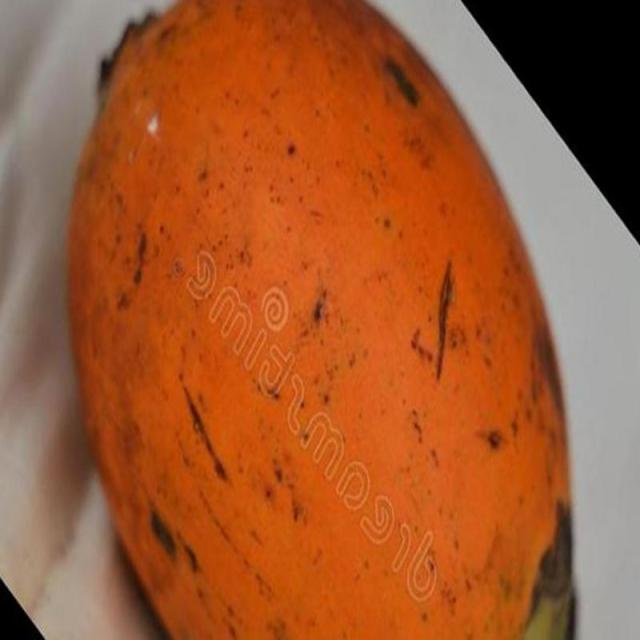good: (65, 0, 576, 639)
